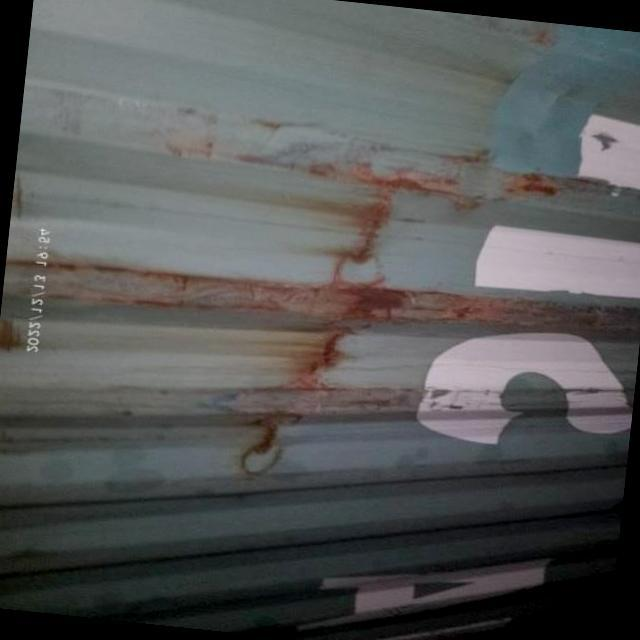rust: (213, 130, 616, 203), (232, 275, 478, 348)
